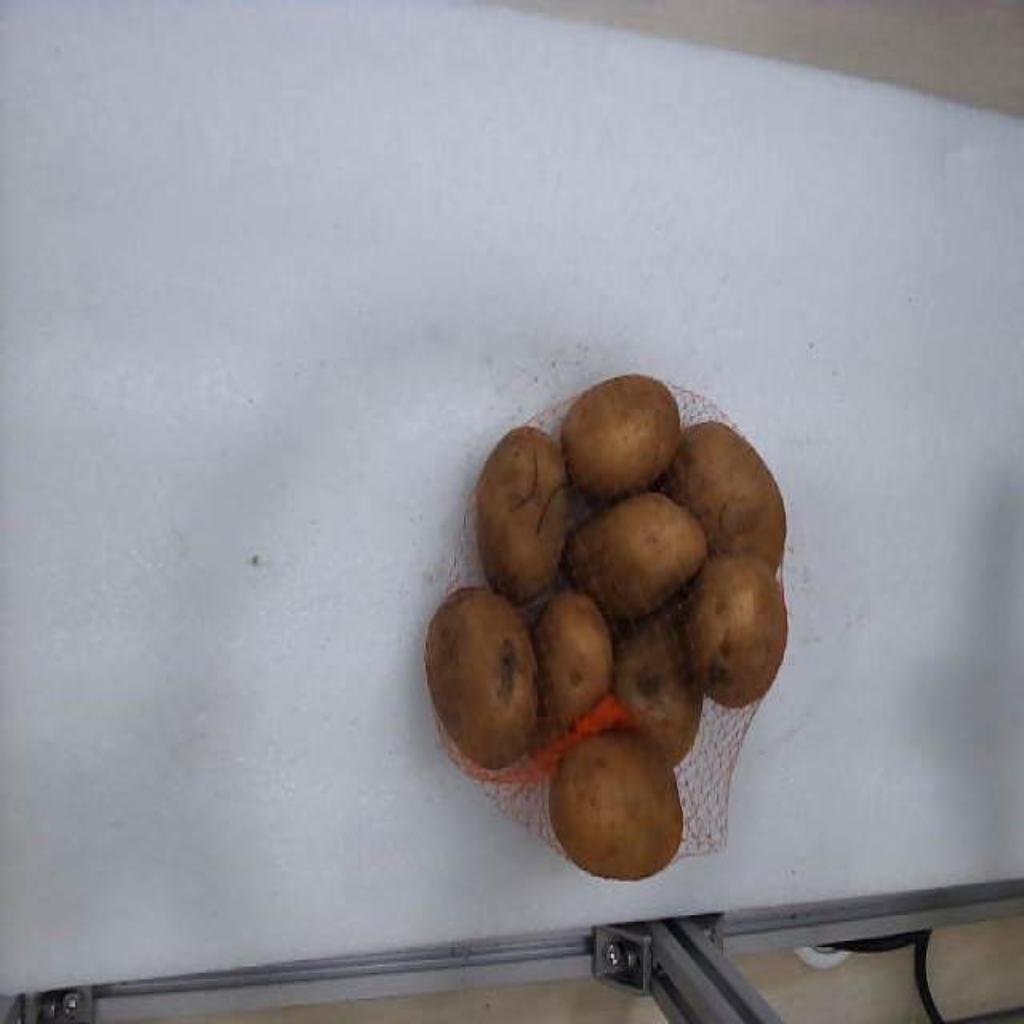potato: (428, 587, 536, 769), (550, 731, 682, 879), (564, 493, 708, 617), (664, 421, 786, 567), (476, 427, 570, 603), (686, 557, 788, 705), (614, 611, 702, 764), (562, 381, 678, 497), (534, 589, 612, 727)
